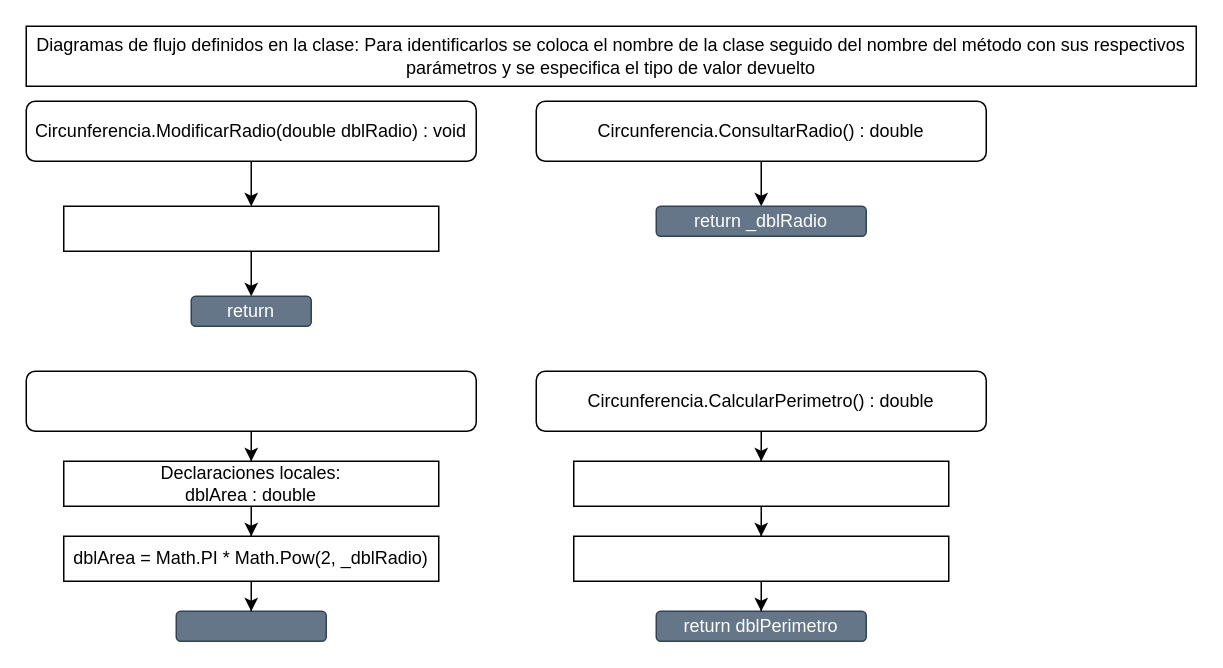
This 1223x668 diagram has some shape labels left out. The centre of each missing label's shape, as x and y in pixels:
_dblRadio = dblRadio: pixel 250 228
Circunferencia.CalcularArea() : double: pixel 250 400
dblPerimetro = Math.PI * _dblRadio * 2: pixel 760 558
Declaraciones locales: dblPerimetro : double: pixel 760 483
return dblArea: pixel 250 625
